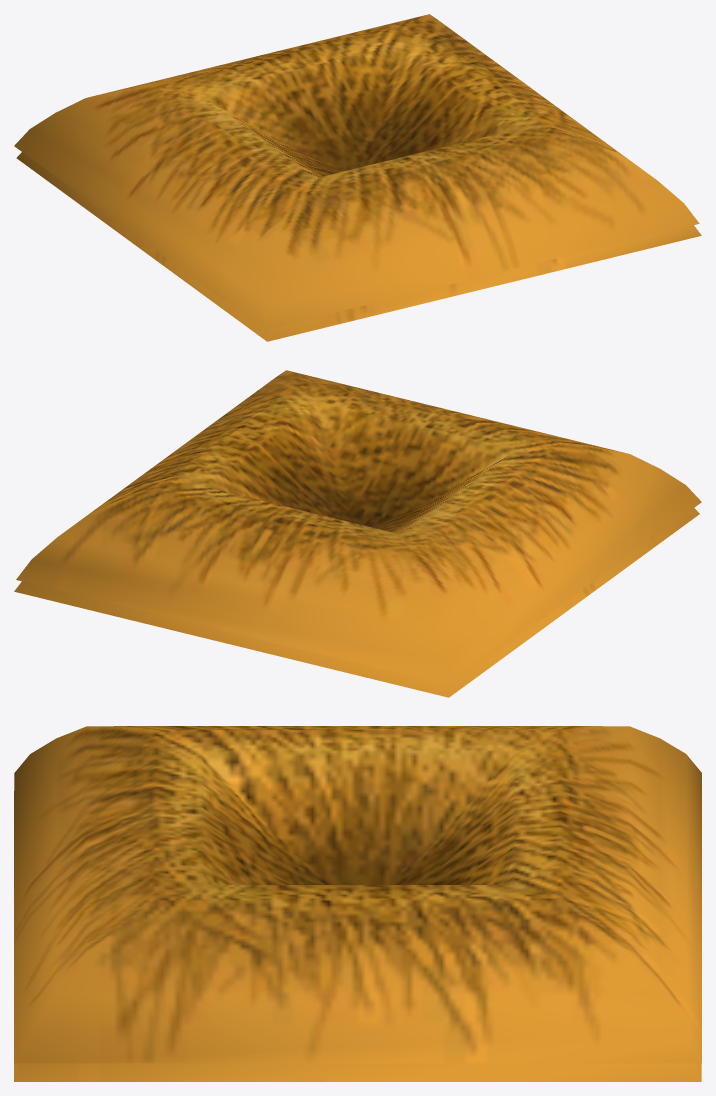
Rendered from INST_HTOWN_CHICKENNEST.obj.
The picture shows the model from 3 angles, top to bottom: view 1: azimuth 30°, elevation 25°; view 2: azimuth 150°, elevation 25°; view 3: azimuth 270°, elevation 25°; orthographic projection. The views are drawn at different scales.
Parts seen in each view (by area): view 1: ChickenNest02, ChickenNest01; view 2: ChickenNest02, ChickenNest01; view 3: ChickenNest02, ChickenNest01.
Boxes of the visible parts, x1,y1,x2,y2 form: ChickenNest02: (14,14,699,329); ChickenNest01: (16,152,701,341); ChickenNest02: (16,370,701,685); ChickenNest01: (14,508,699,697); ChickenNest02: (14,726,701,1063); ChickenNest01: (14,791,701,1081).
Size of the model in its own units: 86.74 by 18.83 by 86.39.
